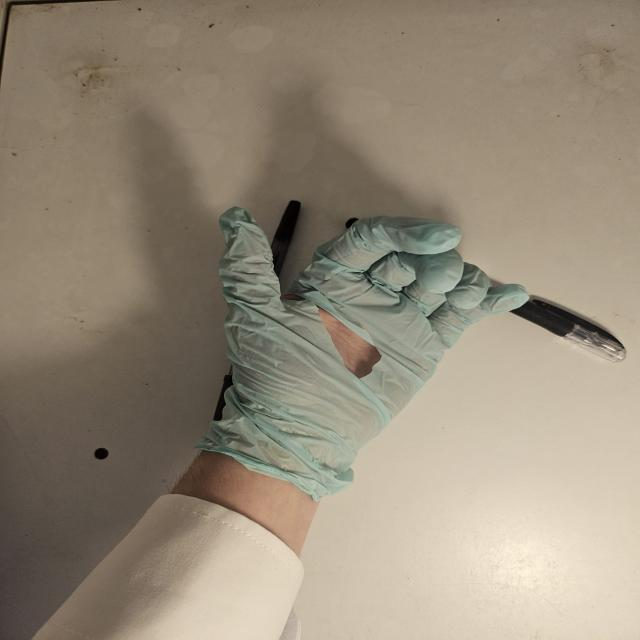gloves_damaged: (185, 202, 532, 508)
